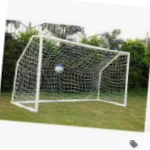goals: (11, 33, 131, 115)
